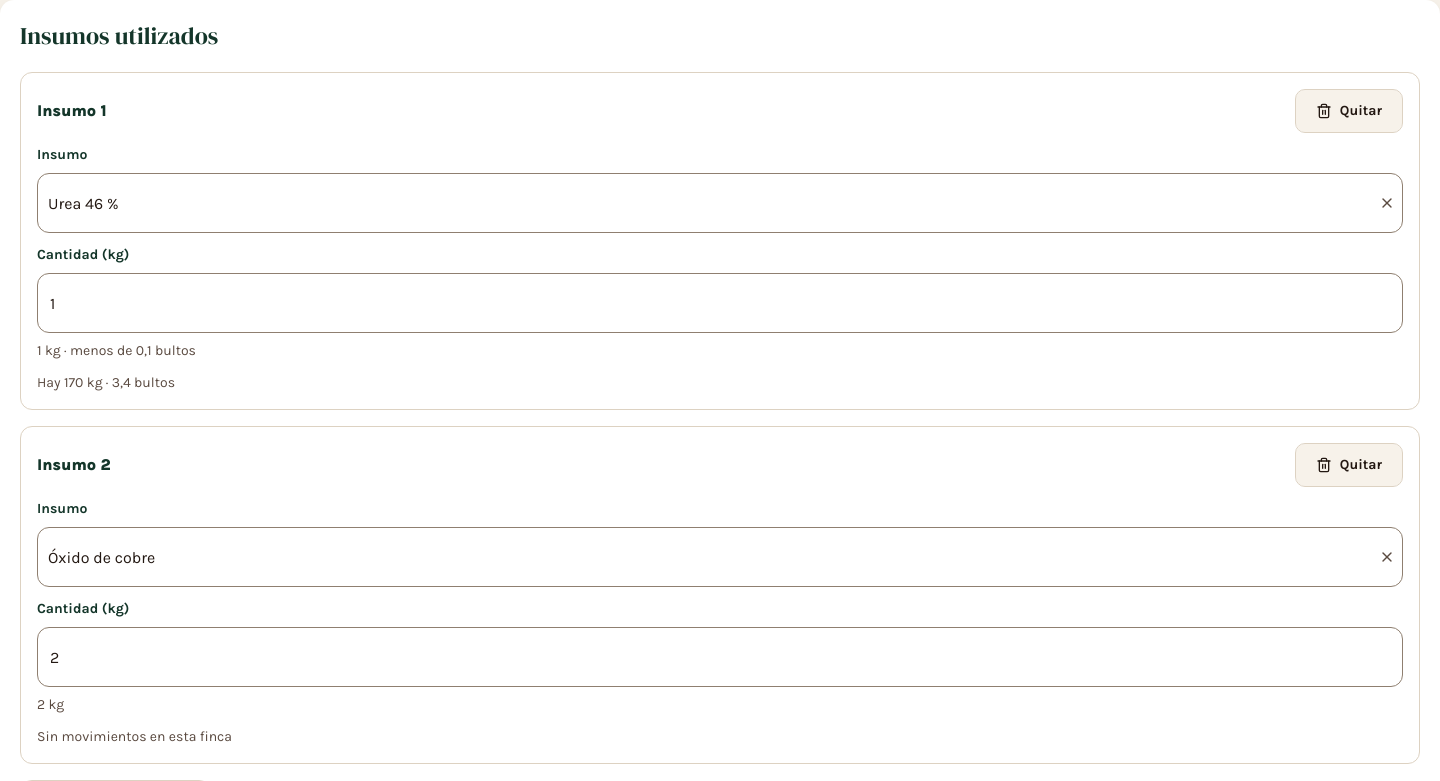
Scenario: UsedInputsSection › removes a row
What coordinates should you click on to do the following:
click the button with aria-label "Quitar insumo 1"
I would click on:
 (1349, 111)
Its box is [1295,89,1403,133].
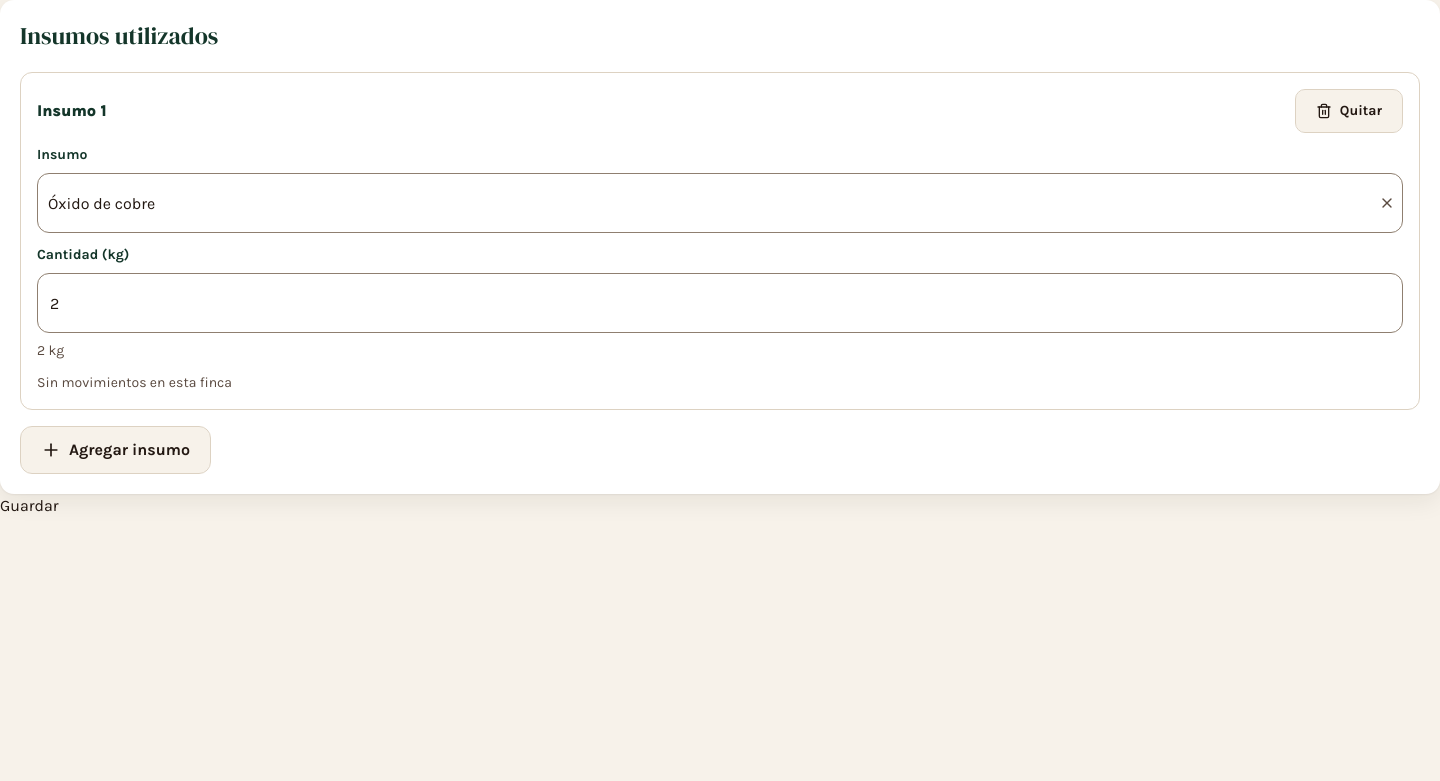
Expected: the heading "Insumo 2" is gone
